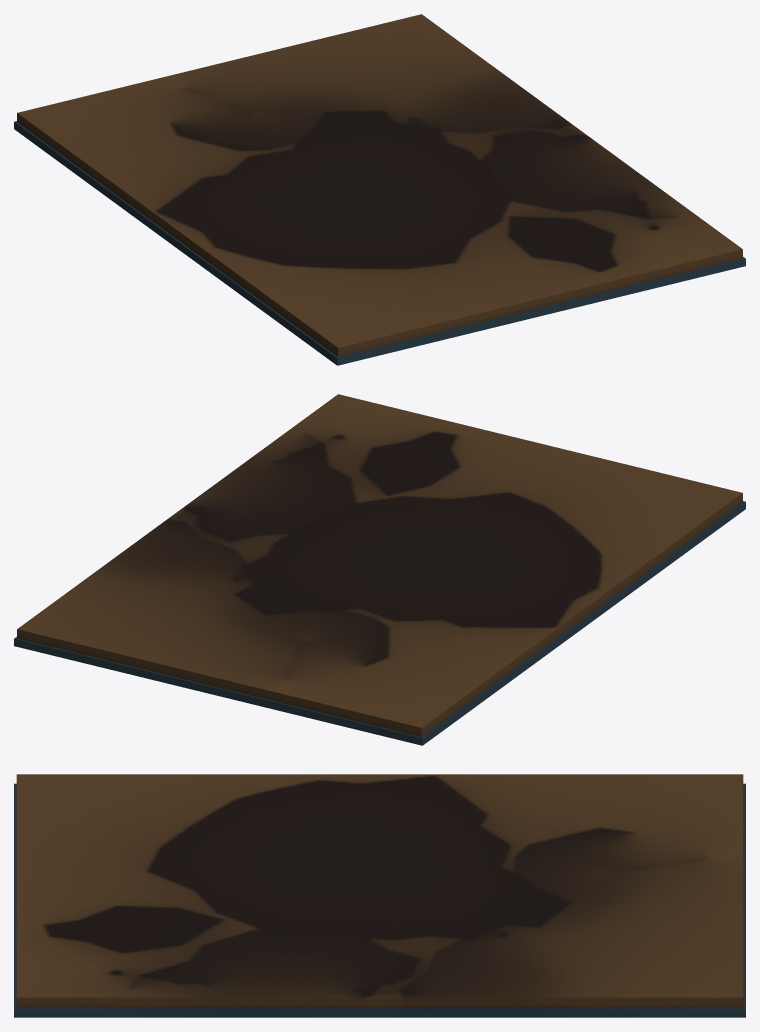
File: Ground_03.FBX
The picture shows the model from 3 angles, top to bottom: view 1: azimuth 30°, elevation 25°; view 2: azimuth 150°, elevation 25°; view 3: azimuth 270°, elevation 25°; orthographic projection. The views are drawn at different scales.
Parts seen in each view (by area): view 1: Ground_03; view 2: Ground_03; view 3: Ground_03.
Part boxes in pixels (bbox=[...]): Ground_03: bbox=[14, 14, 745, 365]; Ground_03: bbox=[14, 394, 745, 745]; Ground_03: bbox=[14, 774, 745, 1017].
Bounding box in the file's own units: 43.67 × 1.69 × 59.87.
